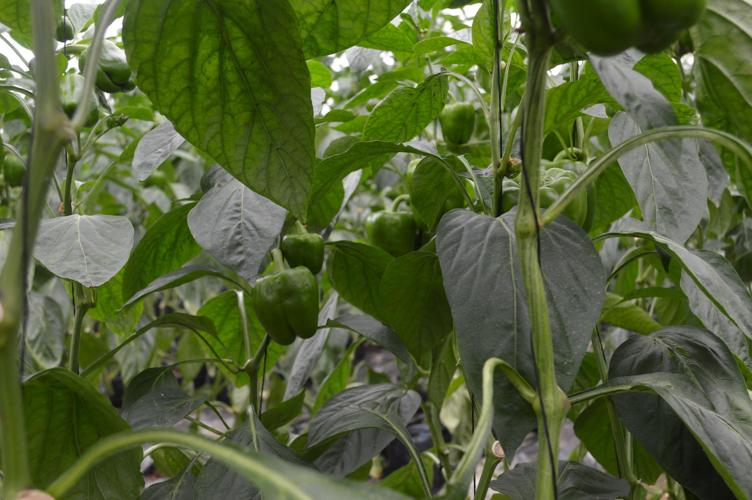BellPepper: (245, 268, 318, 342), (505, 169, 583, 227), (548, 160, 595, 229), (364, 210, 416, 252), (280, 232, 325, 272), (401, 159, 438, 207), (439, 104, 475, 147)
